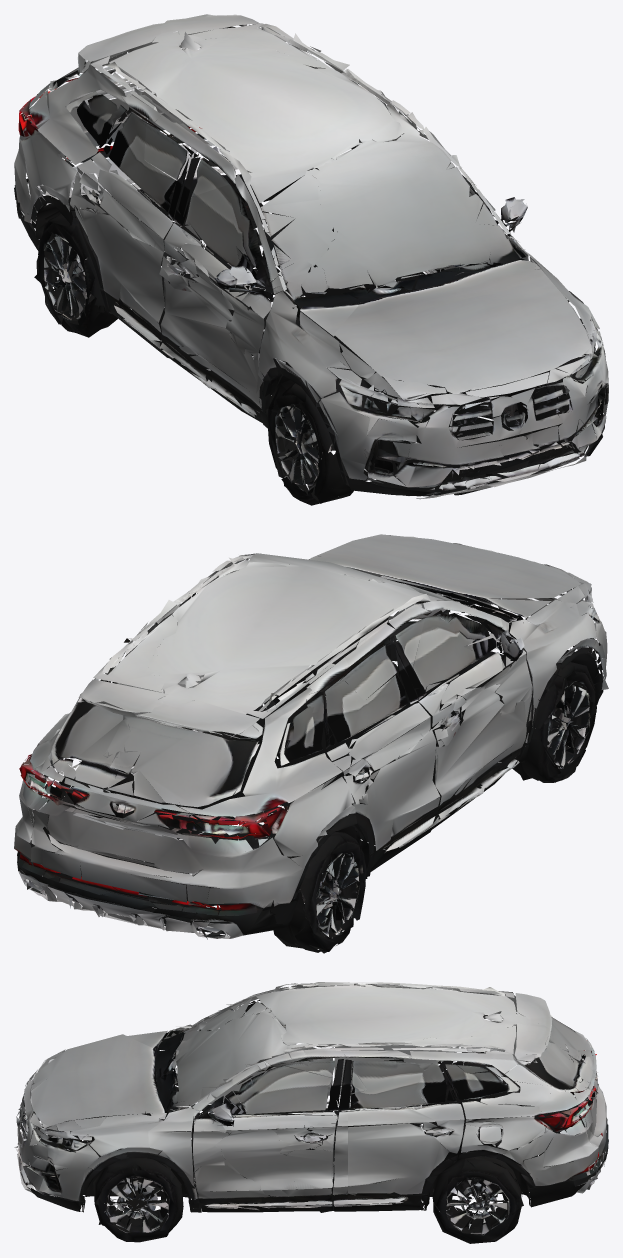
Rendered from car_suv7.glb.
The picture shows the model from 3 angles, top to bottom: view 1: azimuth 30°, elevation 25°; view 2: azimuth 150°, elevation 25°; view 3: azimuth 270°, elevation 25°; orthographic projection. The views are drawn at different scales.
Visible parts, largest first — view 1: body; view 2: body; view 3: body, door_FL.
Boxes of the visible parts, <box> form: body: <box>14,14,608,505</box>; body: <box>14,534,608,953</box>; body: <box>14,982,608,1243</box>; door_FL: <box>194,1113,347,1206</box>.
Size of the model in its own units: 0.8479 by 0.6659 by 1.91.
1 material, 1 textured.
